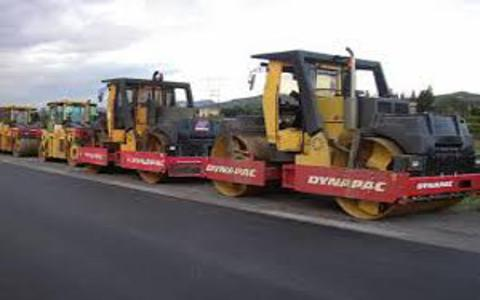Proper road: (11, 177, 202, 296)
